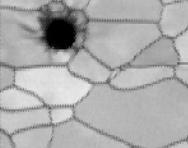good_void: (40, 5, 87, 52)
